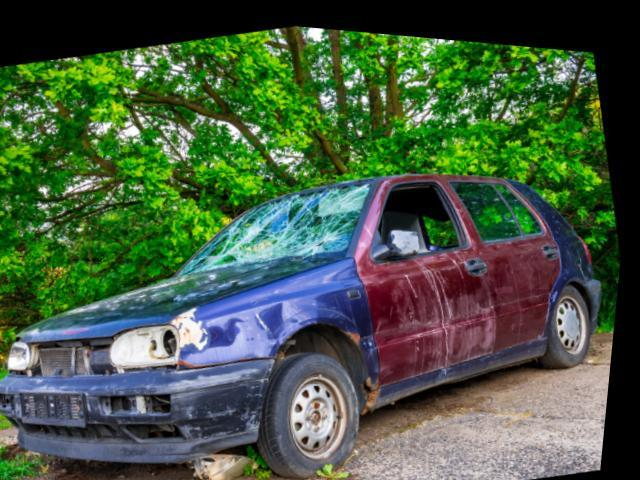dent: (177, 299, 305, 364)
glass shatter: (181, 176, 374, 273)
lamp broken: (116, 320, 185, 365), (14, 340, 39, 372)
no part: (36, 332, 120, 376)
